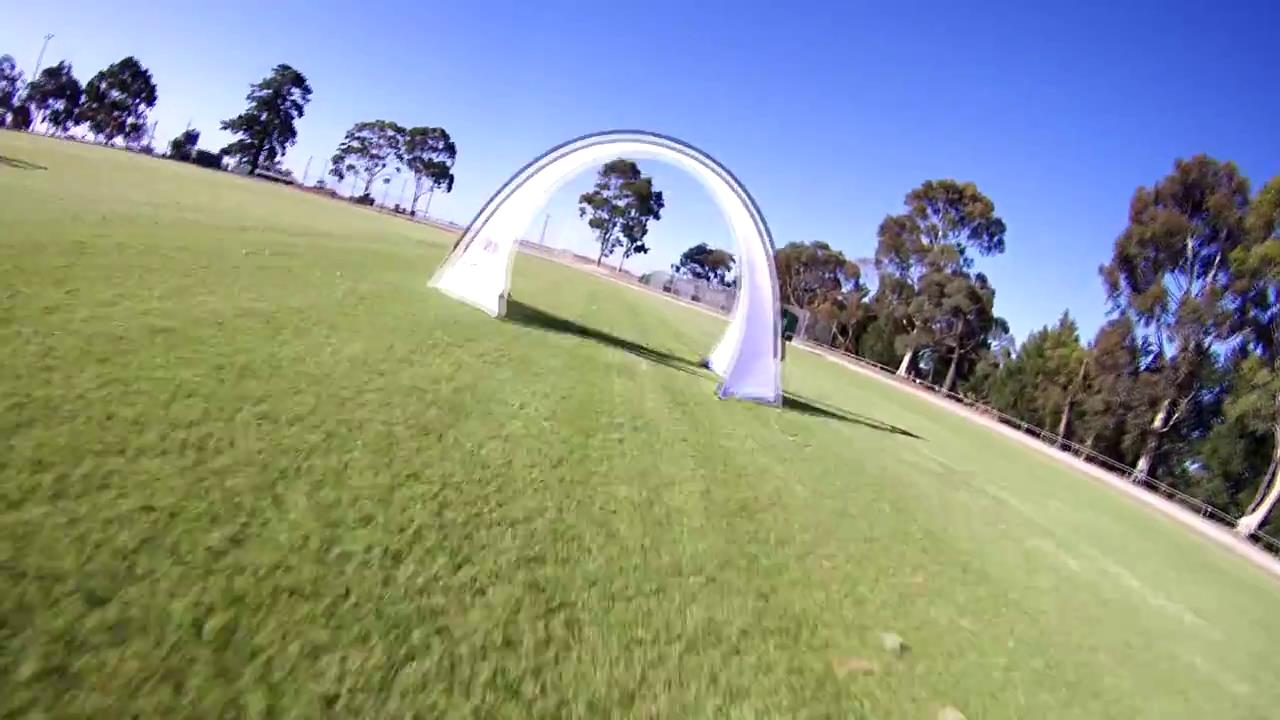gate: (422, 128, 791, 412)
